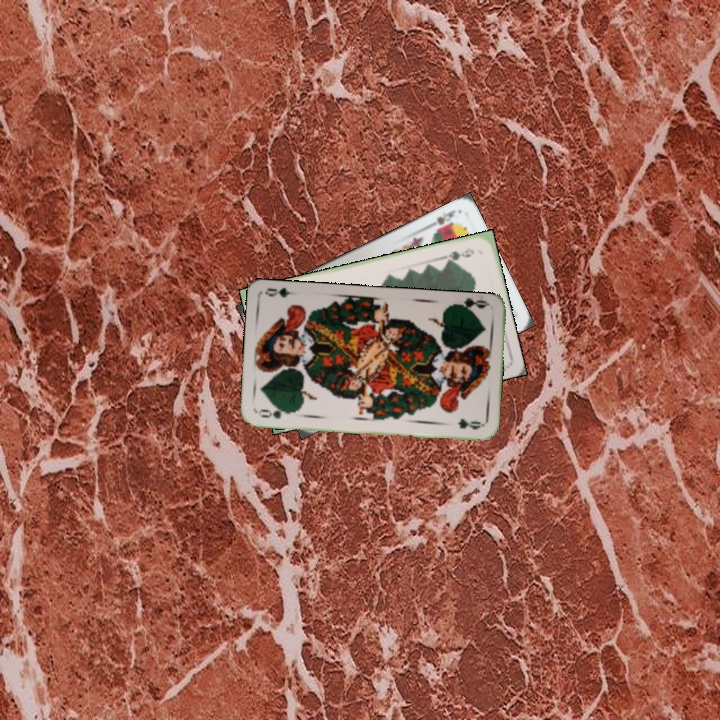G9: (442, 244, 477, 264)
GO: (450, 295, 491, 315), (254, 404, 295, 421)
SK: (423, 205, 459, 233)
